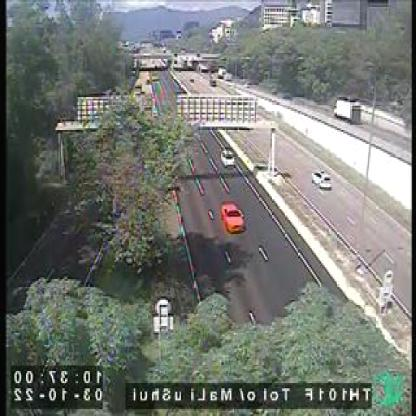Car: (222, 201, 247, 232), (312, 168, 332, 189), (221, 148, 235, 166)
Truck: (336, 99, 362, 121)
